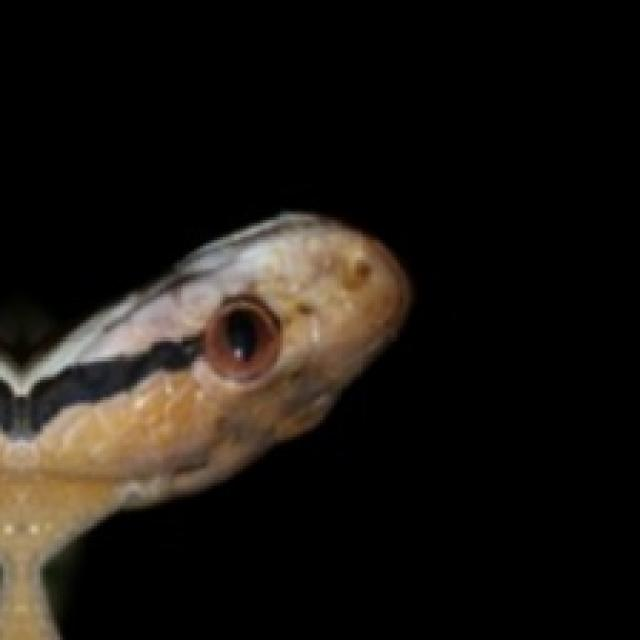dog-toothed cat snake: (0, 211, 409, 637)
